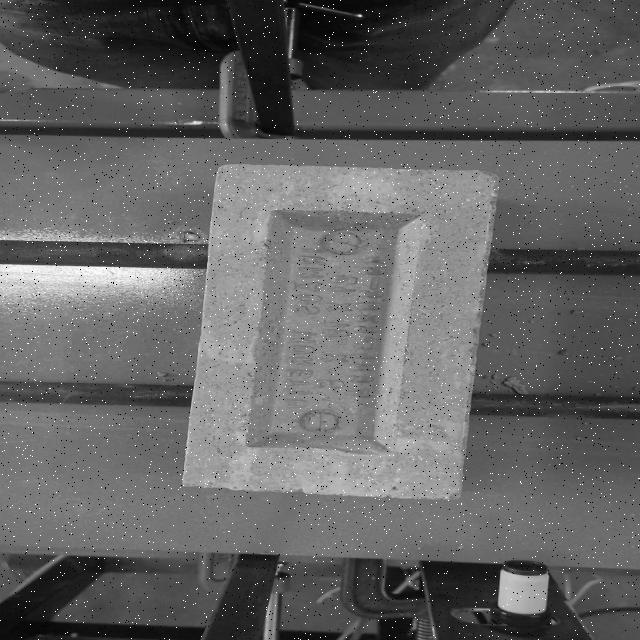bricks: (184, 165, 501, 500)
